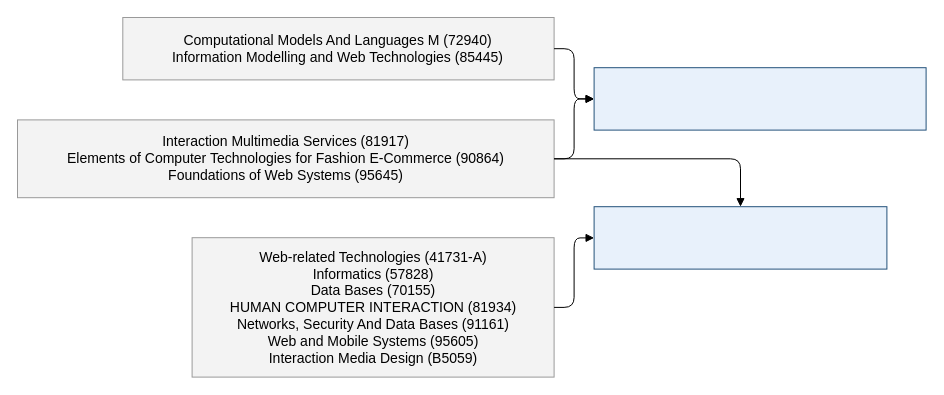
Some shapes in this 944 by 395 pixel diagram are drawn without their labels. The centre of each missing label's shape, as x and y in pixels:
Dynamic Web and E-commerce Systems 2 ECTS: the point at 759,98
Web Foundations and Interaction 3 ECTS: the point at 740,237
